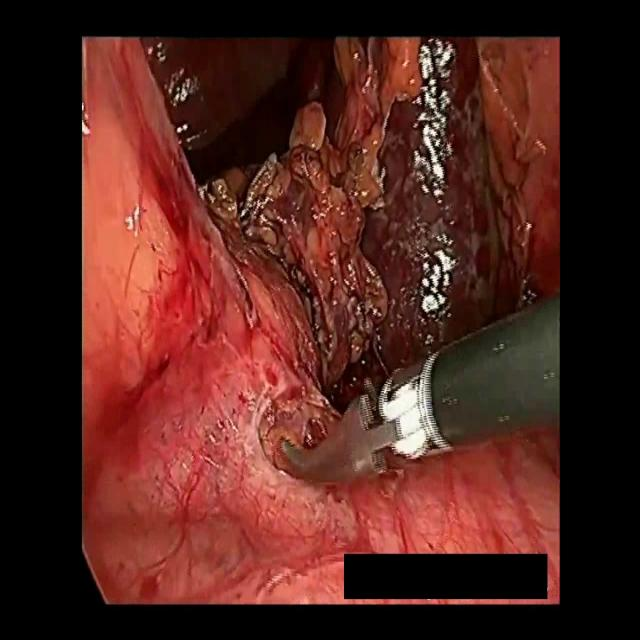surgical-area: (82, 37, 561, 606)
surgical-tool: (280, 282, 561, 484)
